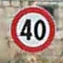limite 40: (9, 6, 56, 52)
